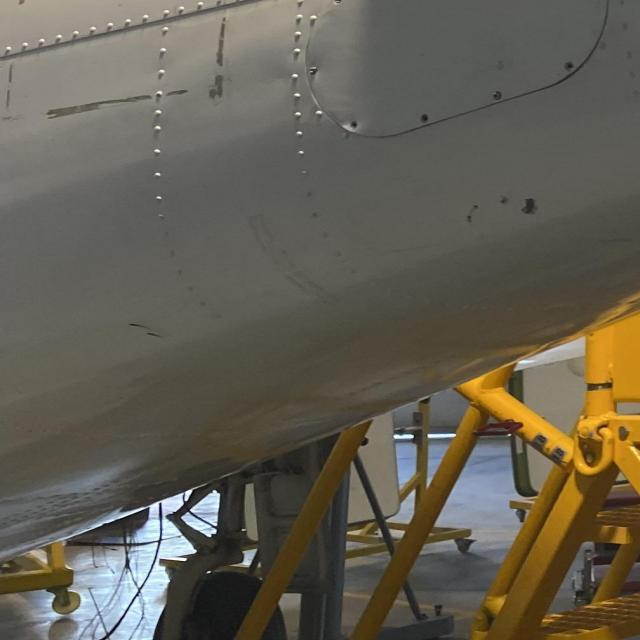Missing-head: (344, 118, 363, 131), (563, 60, 579, 70), (419, 113, 431, 124)
